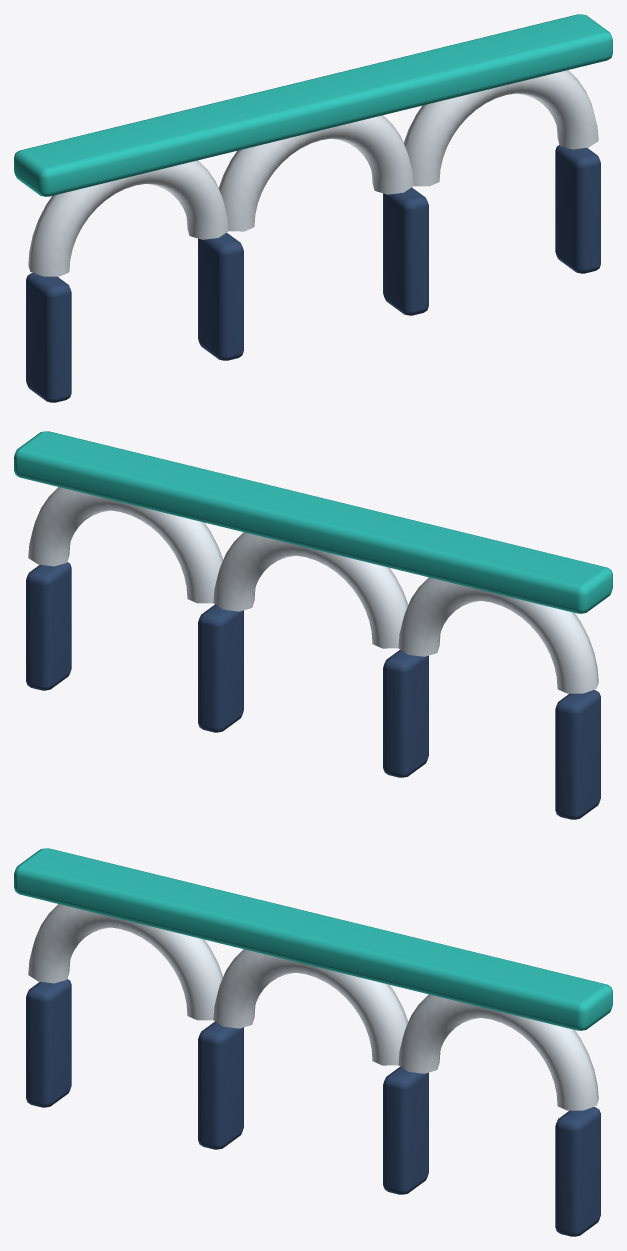
Rendered from aqueduct-lite.glb.
The picture shows the model from 3 angles, top to bottom: view 1: azimuth 30°, elevation 25°; view 2: azimuth 150°, elevation 25°; view 3: azimuth 330°, elevation 25°; orthographic projection.
Parts seen in each view (by area): view 1: Arch; view 2: Arch; view 3: Arch.
Part boxes in pixels (left/top/right/bottom): Arch: left=14, top=14, right=612, bottom=402; Arch: left=14, top=431, right=612, bottom=819; Arch: left=14, top=848, right=612, bottom=1236.
Bounding box in the file's own units: 3.1 × 1.24 × 0.3.
